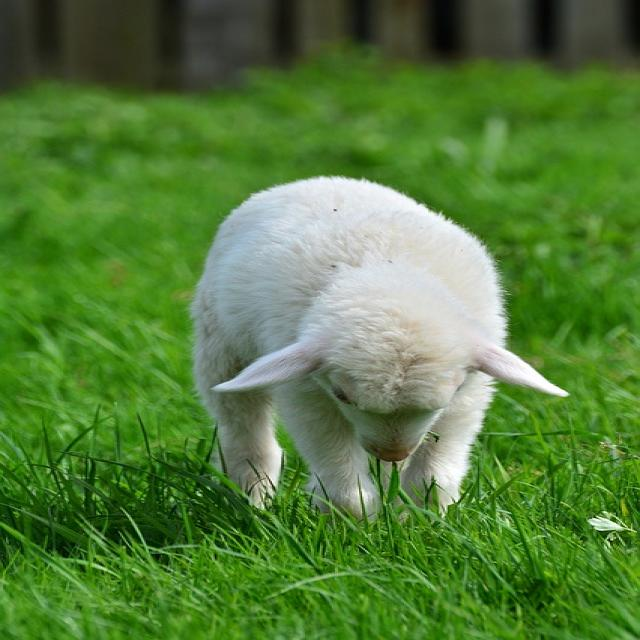sheep: (188, 174, 569, 526)
